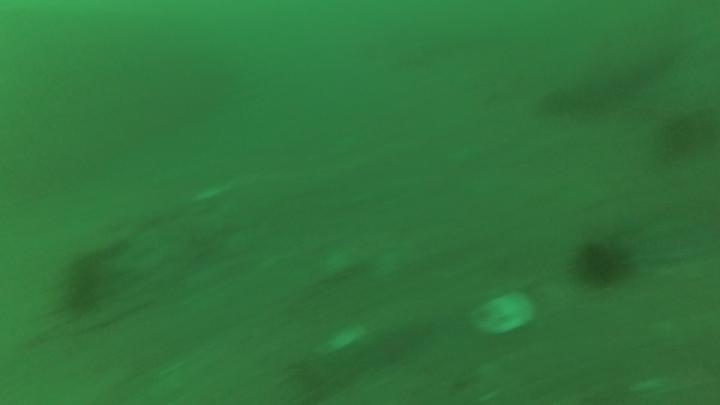echinus: (570, 236, 634, 291), (655, 110, 702, 164)
